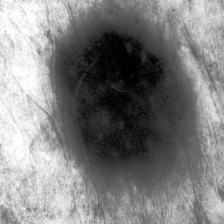Benign Marking or Mole: (57, 24, 185, 180)
